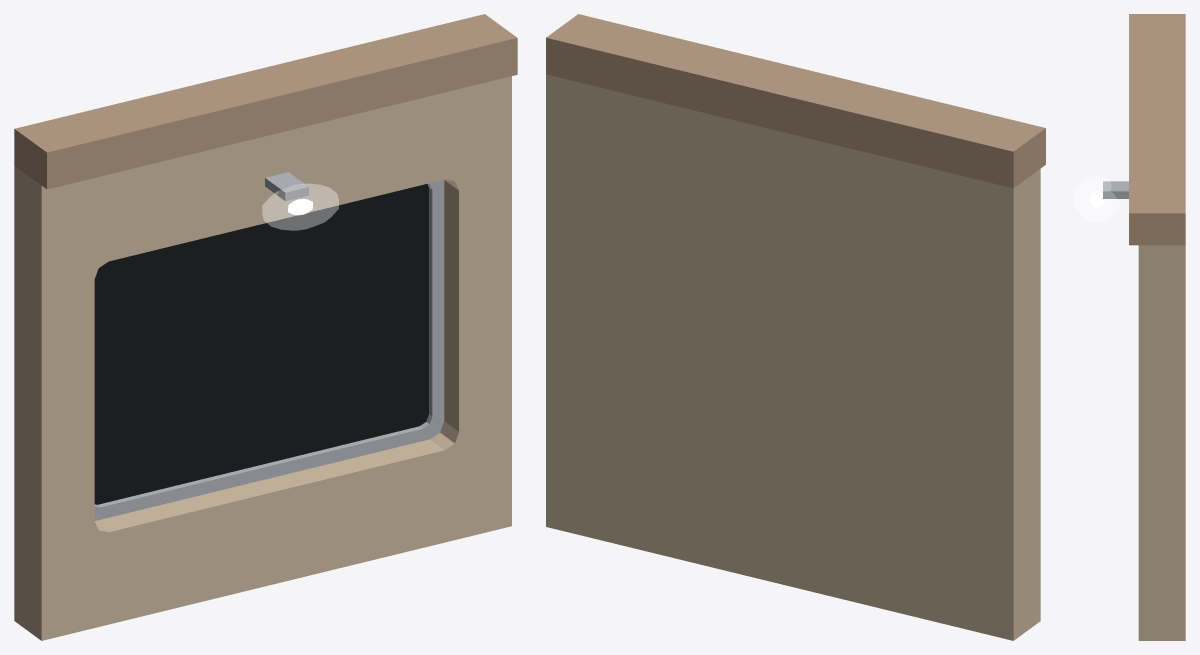
The model's file is city_gallery_display_wall.glb.
The picture shows the model from 3 angles, left to right: view 1: azimuth 30°, elevation 25°; view 2: azimuth 150°, elevation 25°; view 3: azimuth 270°, elevation 25°; orthographic projection. The views are drawn at different scales.
Visible parts, largest first — view 1: CityGalleryDisplayWall_Wall, CityGalleryDisplayWall_Display, CityGalleryDisplayWall_Band, CityGalleryDisplayWall_Frame, CityGalleryDisplayWall_Lamp_Halo, CityGalleryDisplayWall_LampArm; view 2: CityGalleryDisplayWall_Wall, CityGalleryDisplayWall_Back, CityGalleryDisplayWall_Band; view 3: CityGalleryDisplayWall_Wall, CityGalleryDisplayWall_Band, CityGalleryDisplayWall_Lamp_Halo, CityGalleryDisplayWall_LampArm, CityGalleryDisplayWall_Lamp_Core.
Part boxes in pixels (left/top/right/bottom): CityGalleryDisplayWall_Wall: left=14, top=76, right=511, bottom=640; CityGalleryDisplayWall_Display: left=94, top=184, right=428, bottom=504; CityGalleryDisplayWall_Band: left=14, top=14, right=517, bottom=189; CityGalleryDisplayWall_Frame: left=94, top=180, right=444, bottom=520; CityGalleryDisplayWall_Lamp_Halo: left=262, top=184, right=338, bottom=230; CityGalleryDisplayWall_LampArm: left=265, top=172, right=308, bottom=201; CityGalleryDisplayWall_Wall: left=546, top=74, right=1040, bottom=640; CityGalleryDisplayWall_Back: left=598, top=182, right=960, bottom=536; CityGalleryDisplayWall_Band: left=546, top=14, right=1045, bottom=188; CityGalleryDisplayWall_Wall: left=1138, top=245, right=1185, bottom=640; CityGalleryDisplayWall_Band: left=1129, top=14, right=1185, bottom=245; CityGalleryDisplayWall_Lamp_Halo: left=1074, top=176, right=1119, bottom=221; CityGalleryDisplayWall_LampArm: left=1103, top=181, right=1128, bottom=198; CityGalleryDisplayWall_Lamp_Core: left=1089, top=191, right=1104, bottom=207.
Size of the model in its own units: 4 by 4 by 0.945.
